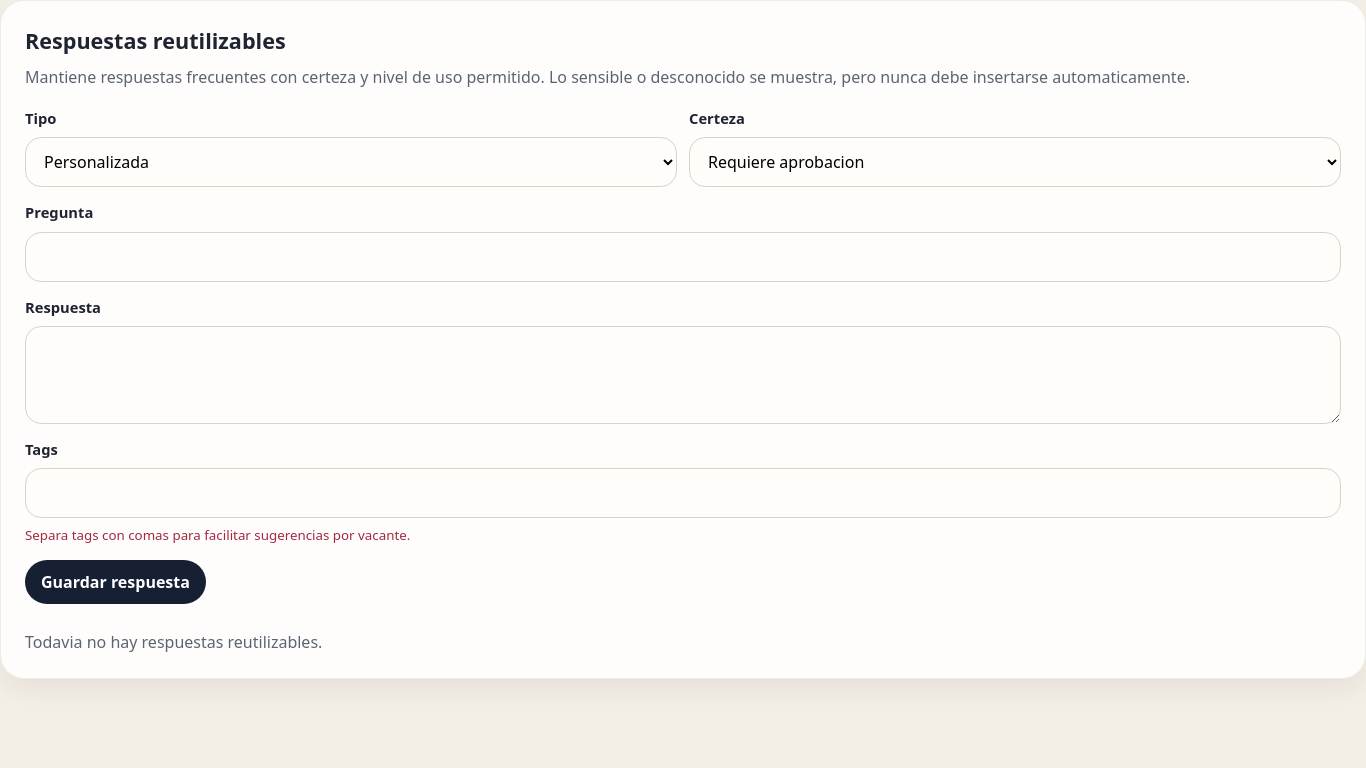
Test case: AnswerLibraryPanel › renders backend validation field messages after create failure
Expected: the text "Todavia no hay respuestas reutilizables." is shown, [25,631,322,653]
Type "Experiencia con Redis" into the field labelled "Pregunta".
click(683, 256); type("Experiencia con Redis")  # box [25,232,1341,282]
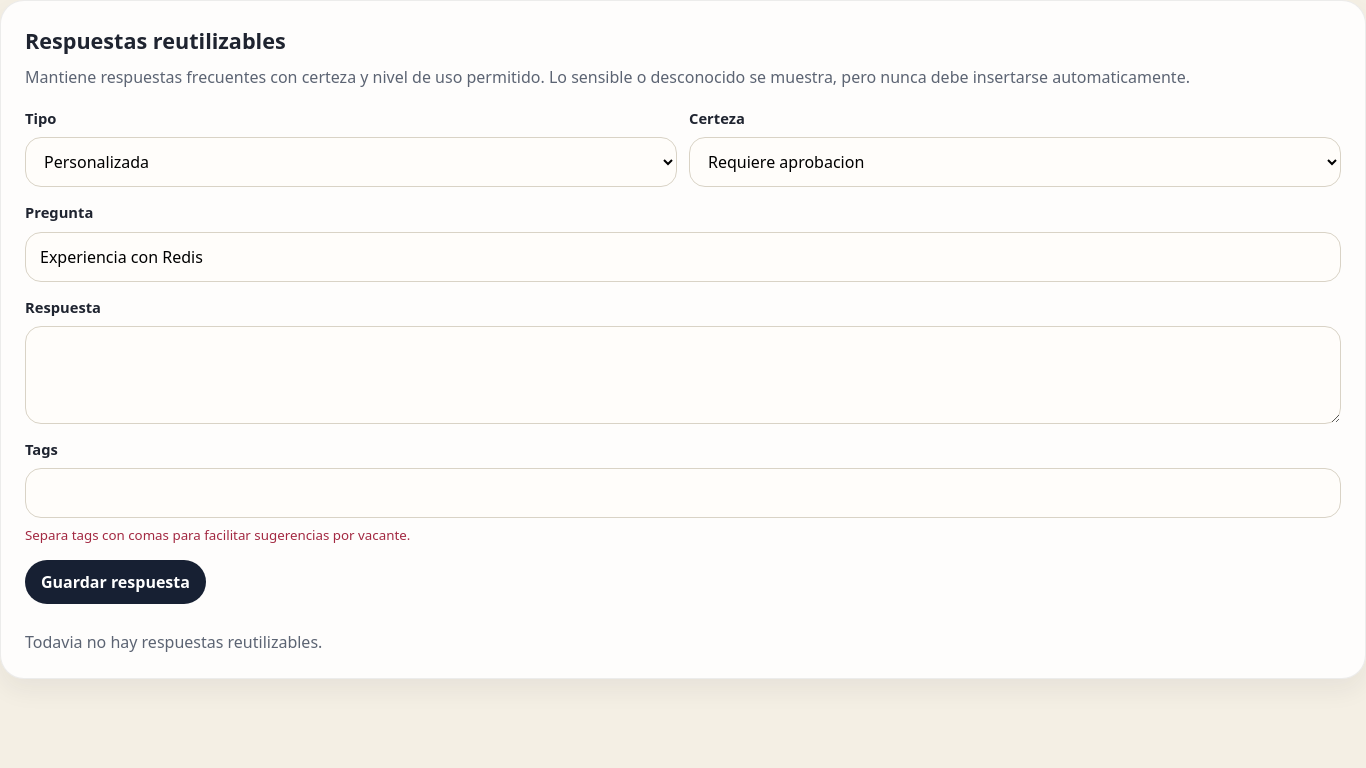
Type "Tengo experiencia comprobable." into the text box labelled "Respuesta".
click(683, 375); type("Tengo experiencia comprobable.")  # box [25,326,1341,424]
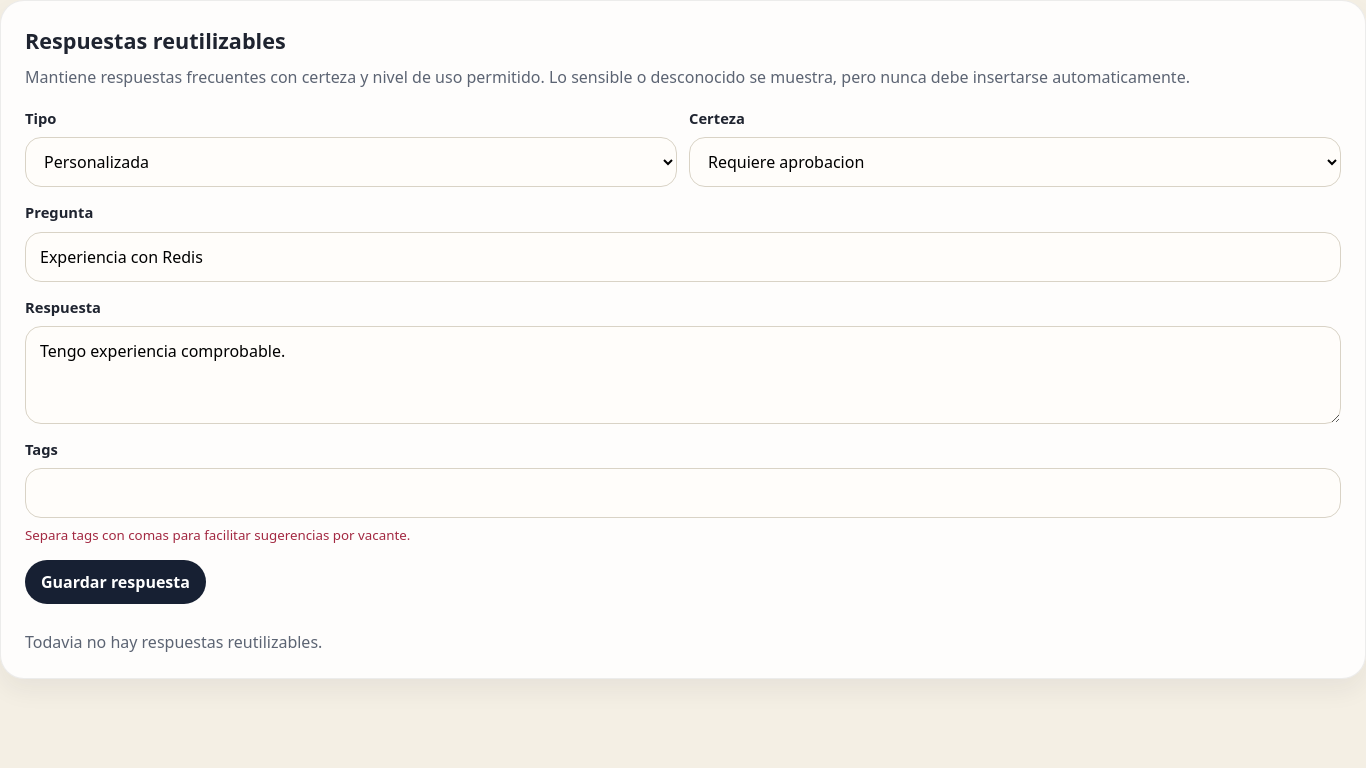
Click the button "Guardar respuesta".
click(115, 582)  # box [25,560,206,604]
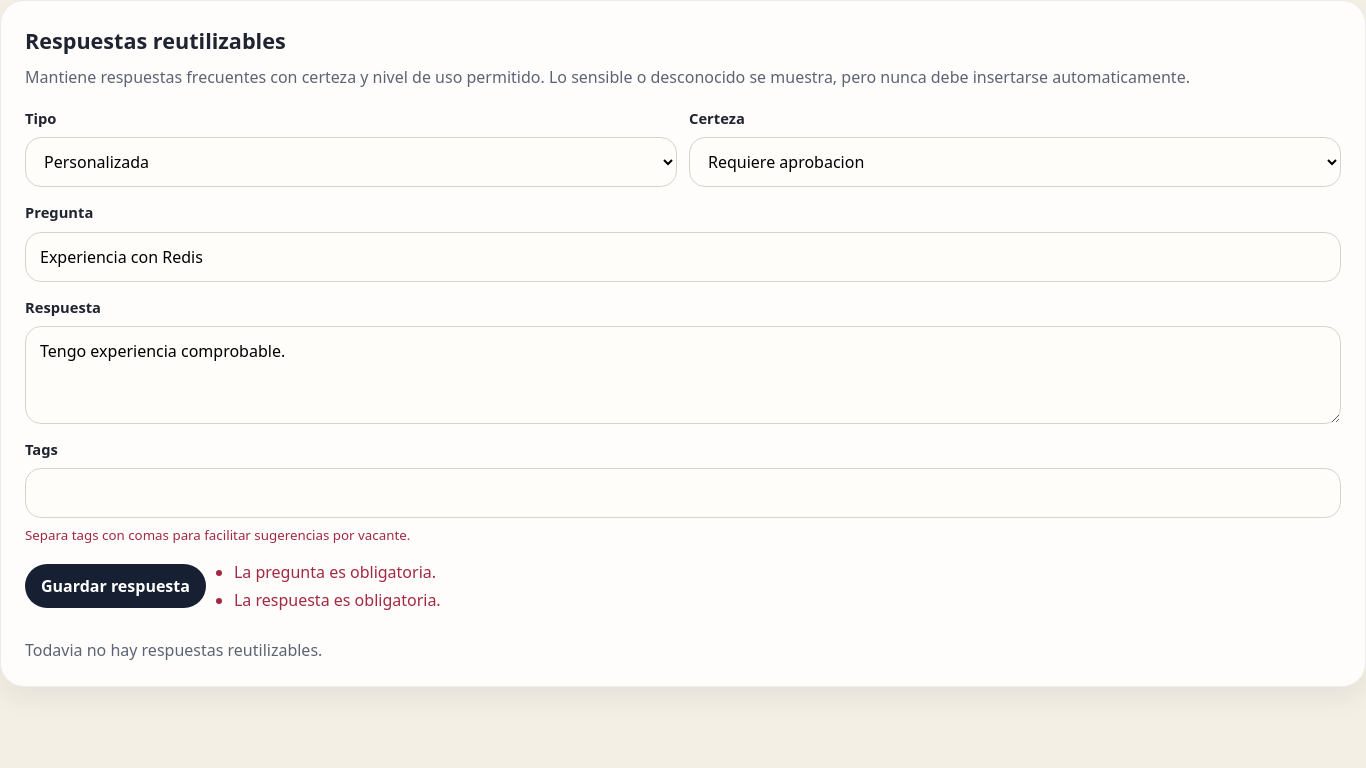
Expected: the list item "La pregunta es obligatoria." is shown, [234,560,441,584]
Expected: the list item "La respuesta es obligatoria." is shown, [234,588,441,612]
